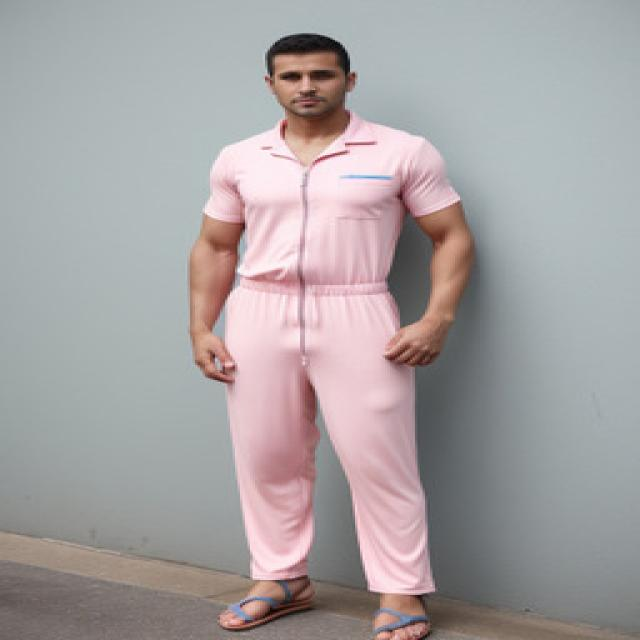Ai human 2: (175, 24, 485, 640)
